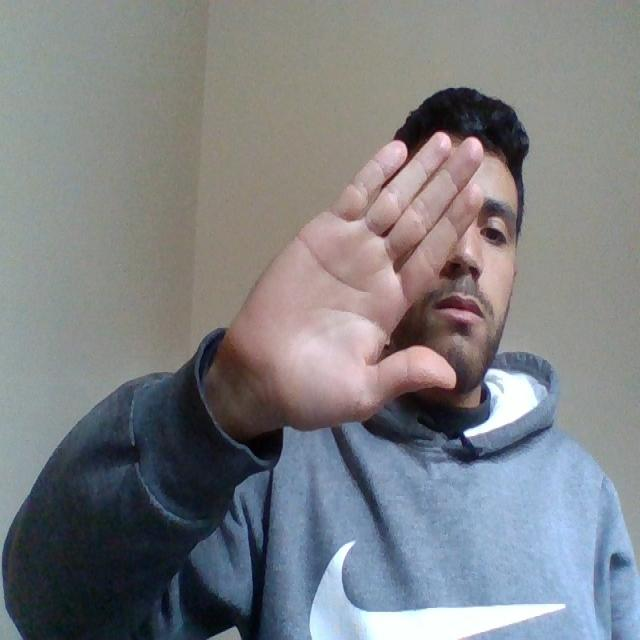Hello: (204, 129, 488, 436)
